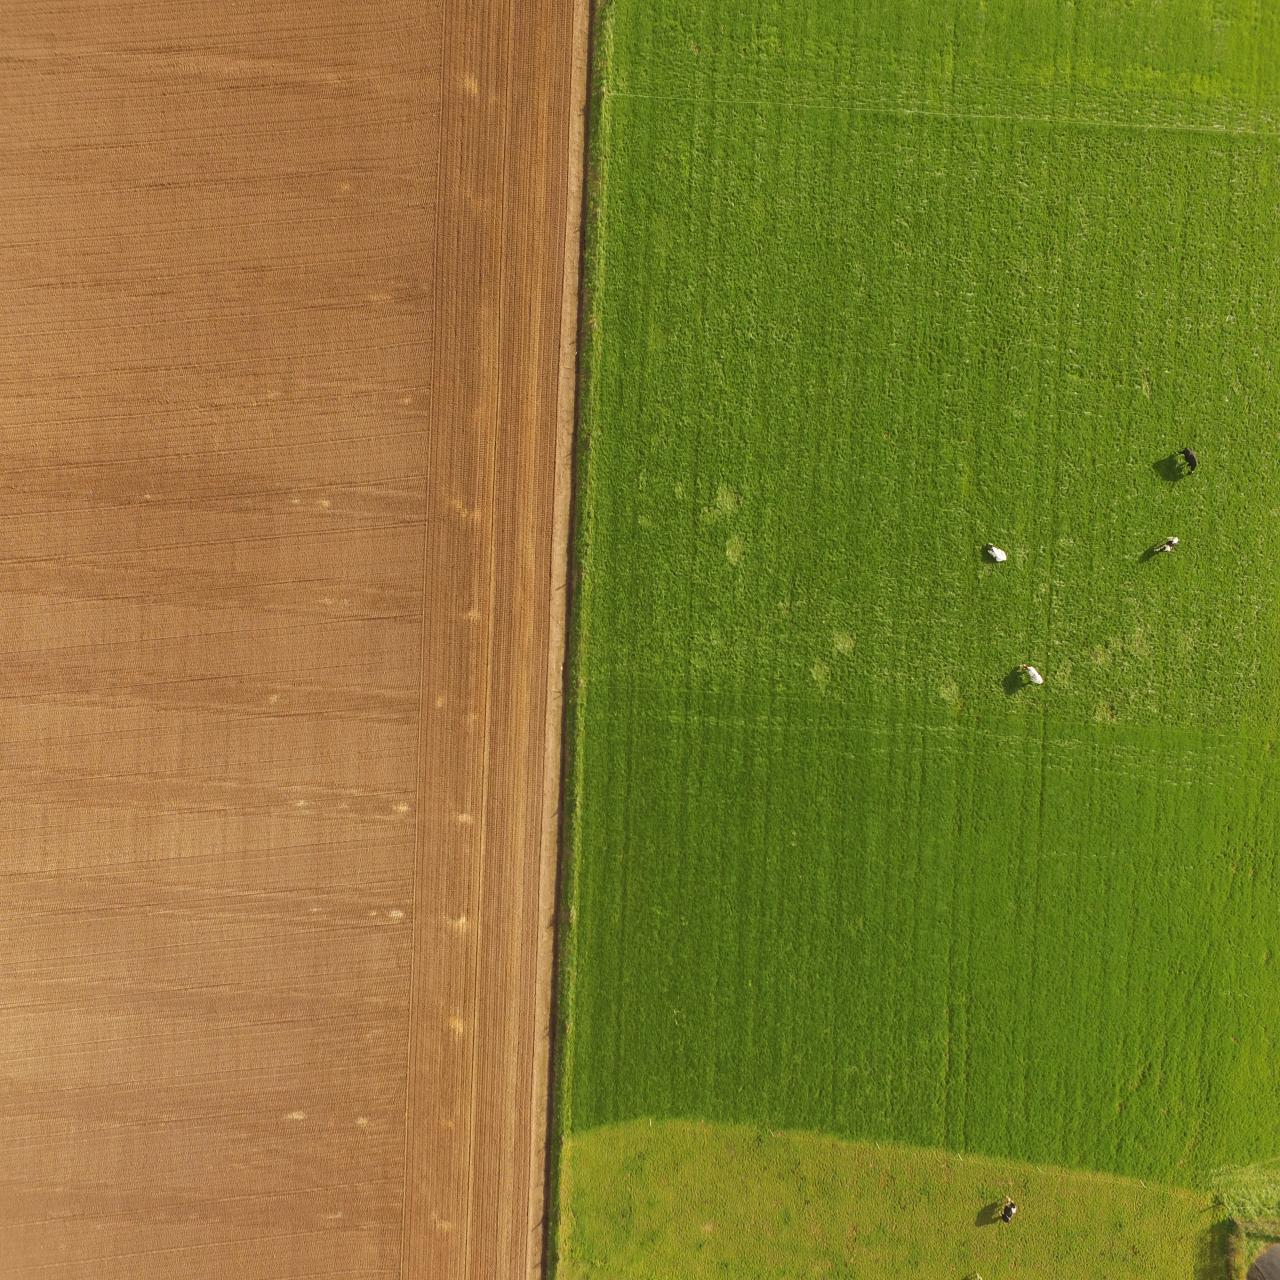cow: (1178, 443, 1200, 478), (1019, 660, 1046, 687), (1152, 533, 1182, 557), (1000, 1194, 1021, 1223), (985, 540, 1009, 563)
